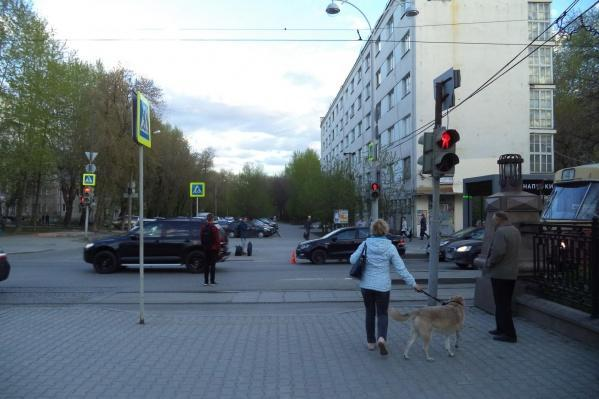normal_dogs: (389, 293, 468, 363)
